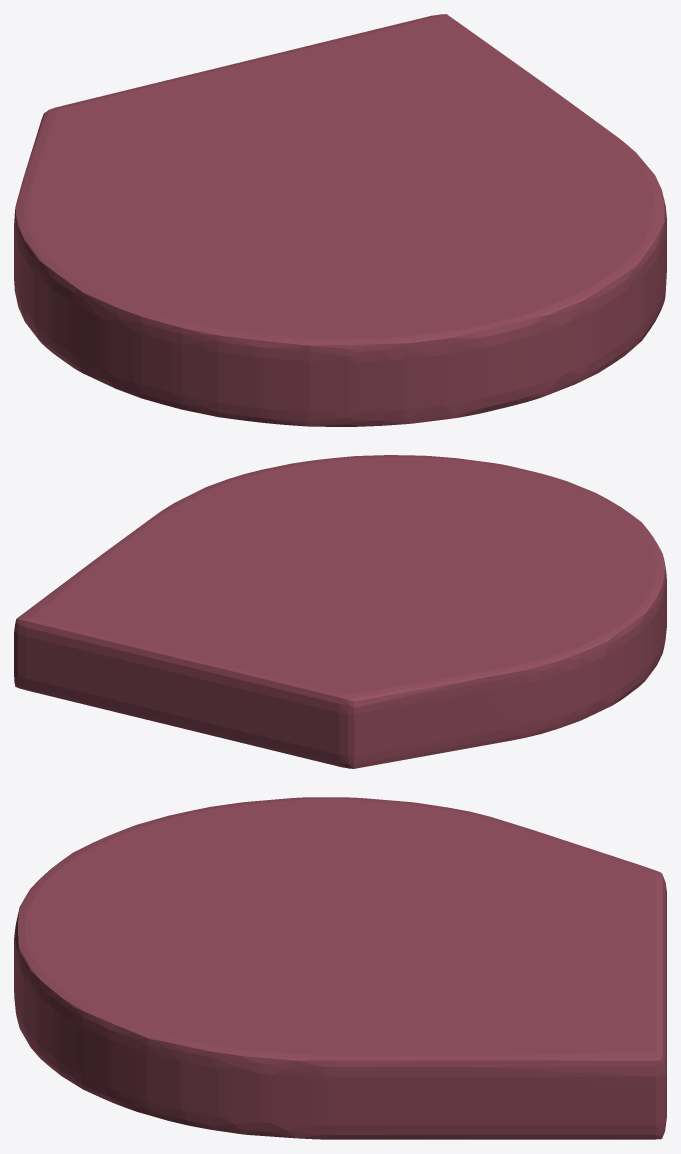
The model's file is right_hip_pitch_link_part_13.obj.
The picture shows the model from 3 angles, top to bottom: view 1: azimuth 30°, elevation 25°; view 2: azimuth 150°, elevation 25°; view 3: azimuth 270°, elevation 25°; orthographic projection. The views are drawn at different scales.
Bounding box in the file's own units: 0.1242 × 0.0179 × 0.129.
